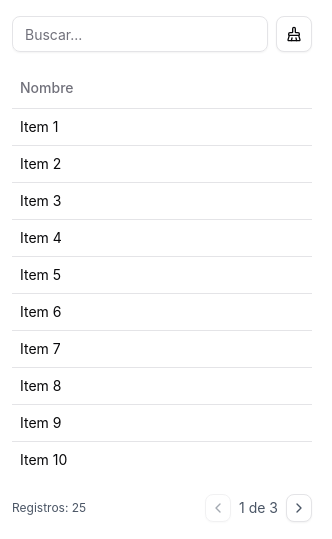
Tabla con estado de lista controlado › persiste búsqueda y página al escribir y paginar
Click the 3rd button at (299, 508), box [286,494,312,522]
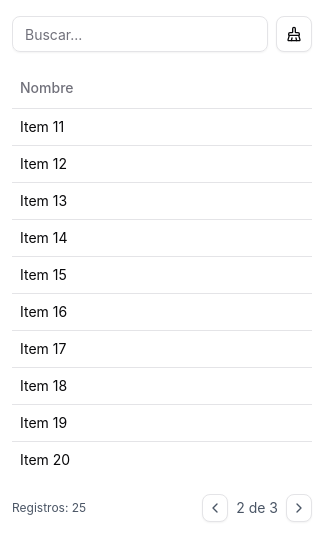
Type "Item 21" into the field with placeholder "Buscar..." at (140, 34), box [12,16,268,52]
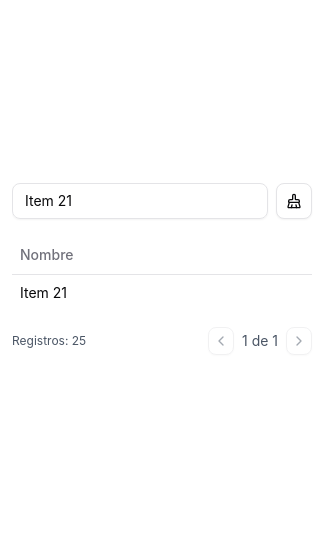
Expected: the cell "Item 21" is shown, [12,275,312,311]
